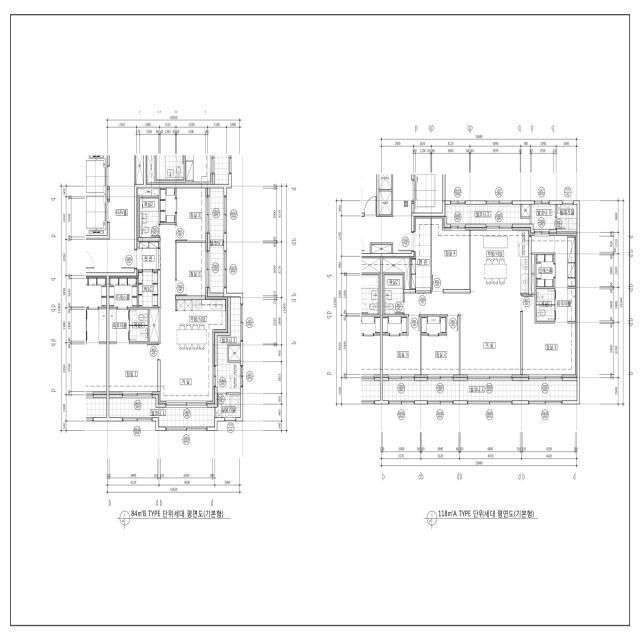space_balconi: (383, 381, 577, 400), (109, 398, 214, 427), (217, 297, 240, 393), (445, 205, 530, 224), (210, 188, 224, 293), (531, 204, 555, 229)
space_bedroom: (523, 295, 575, 377), (432, 218, 469, 289), (109, 344, 158, 394), (422, 316, 459, 377), (383, 316, 420, 377), (177, 243, 207, 296), (177, 188, 207, 241)
space_dressroom: (109, 276, 137, 307), (536, 255, 554, 286), (160, 188, 175, 223)
space_elevator: (414, 174, 443, 213), (86, 194, 107, 235), (86, 155, 107, 194)
space_elevator_hall: (86, 155, 134, 272), (361, 174, 414, 253)
space_front: (411, 218, 430, 291), (137, 241, 159, 270)
space_kitchen: (471, 228, 529, 293), (177, 297, 228, 350)
space_living_room: (158, 224, 215, 404), (405, 293, 521, 377)
space_other: (531, 236, 575, 321), (383, 258, 409, 289), (138, 272, 158, 307), (149, 309, 159, 342), (379, 191, 392, 215), (136, 155, 144, 184), (379, 174, 392, 189), (137, 188, 159, 196), (371, 245, 392, 253), (229, 346, 240, 360), (531, 255, 535, 293), (521, 205, 530, 217)
space_outdoor_room: (557, 204, 577, 231), (216, 395, 240, 417)
space_toilet: (109, 309, 148, 342), (139, 198, 159, 237), (384, 275, 403, 314), (536, 289, 555, 321)
